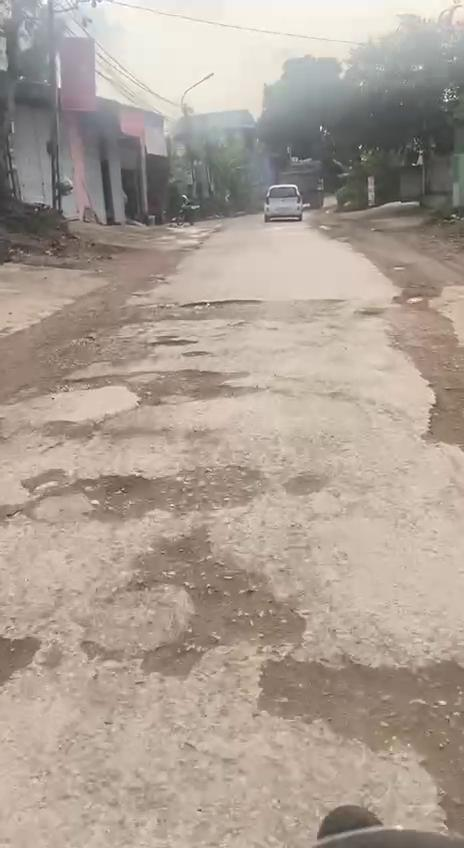pothole: (265, 648, 464, 846), (92, 524, 308, 680), (0, 456, 267, 536), (55, 363, 258, 410), (0, 628, 49, 686), (35, 418, 109, 444)
